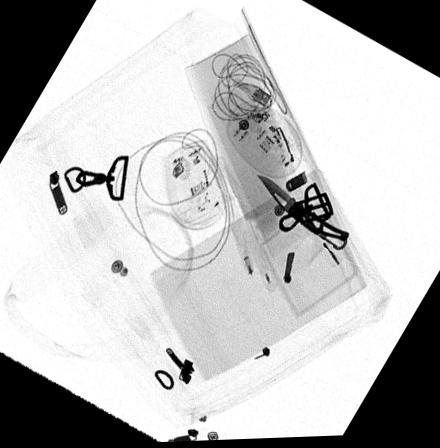Knife: (256, 176, 350, 253)
